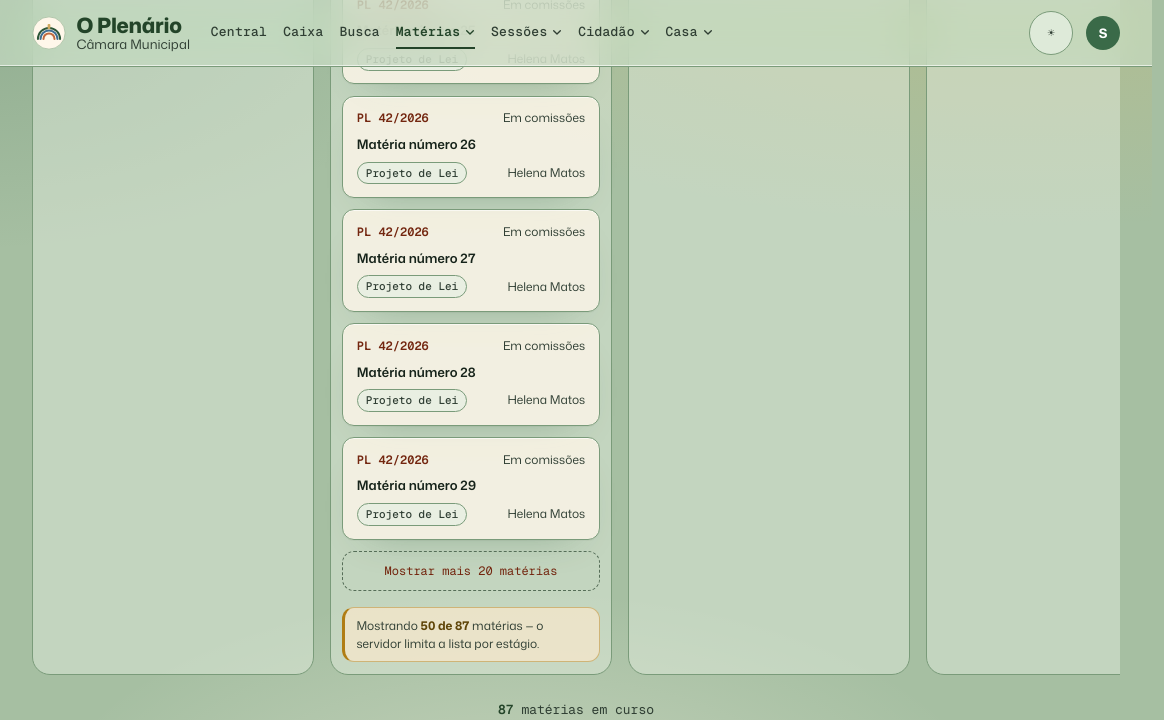
Test: PaginaTramitacao › coluna cortada pelo servidor (total > itens recebidos) avisa, mesmo depois do 'Mostrar mais' se esgotar
The width and height of the screenshot is (1164, 720).
(page scrolled)
Click the button "Mostrar mais 20 matérias" at (471, 571), box [342,551,600,591]
(page scrolled)
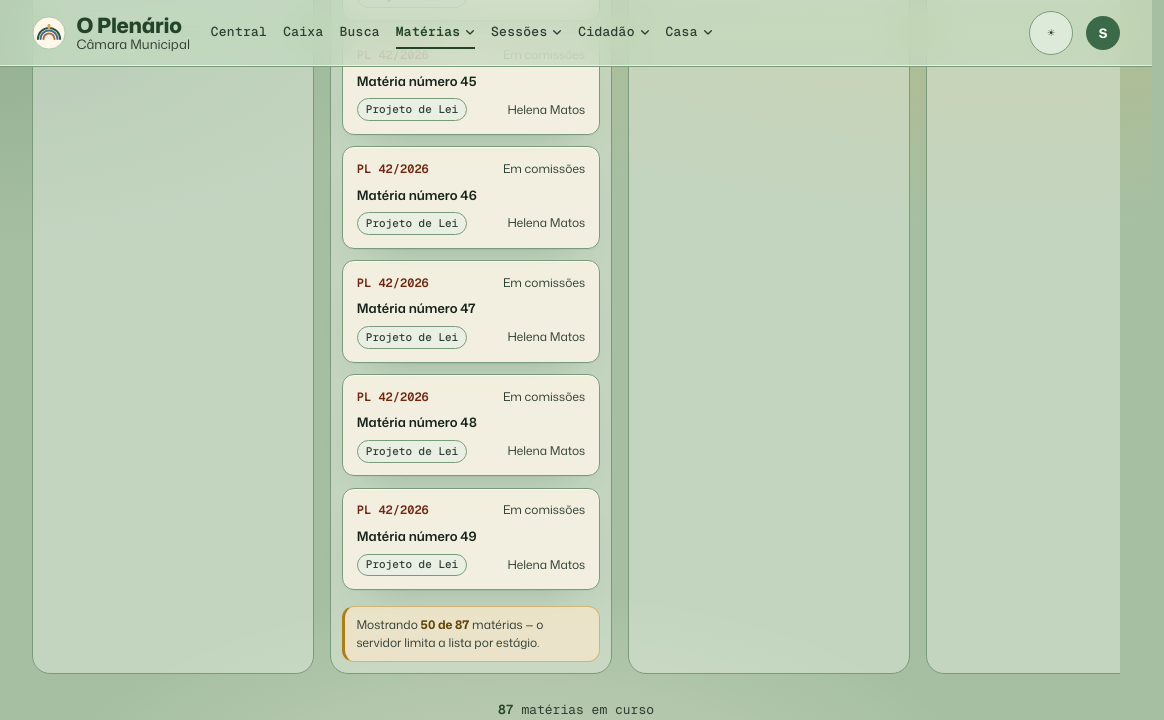
Now the link "Matéria número 49" is shown, box [357,527,477,545]
Now the button "Mostrar mais" is gone
